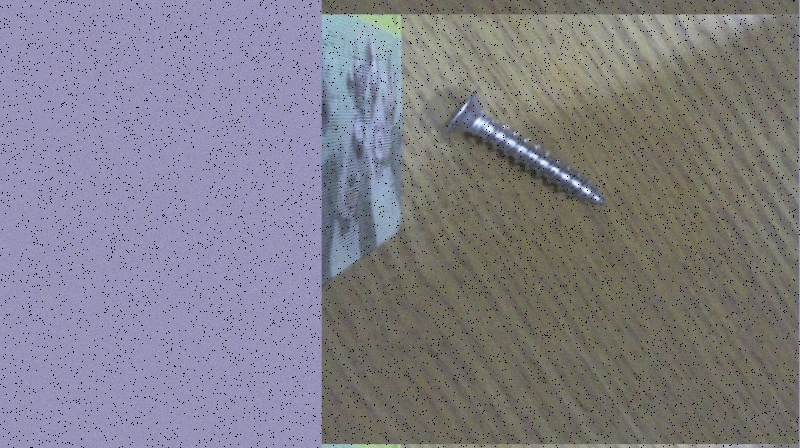S001: (432, 86, 612, 212)
